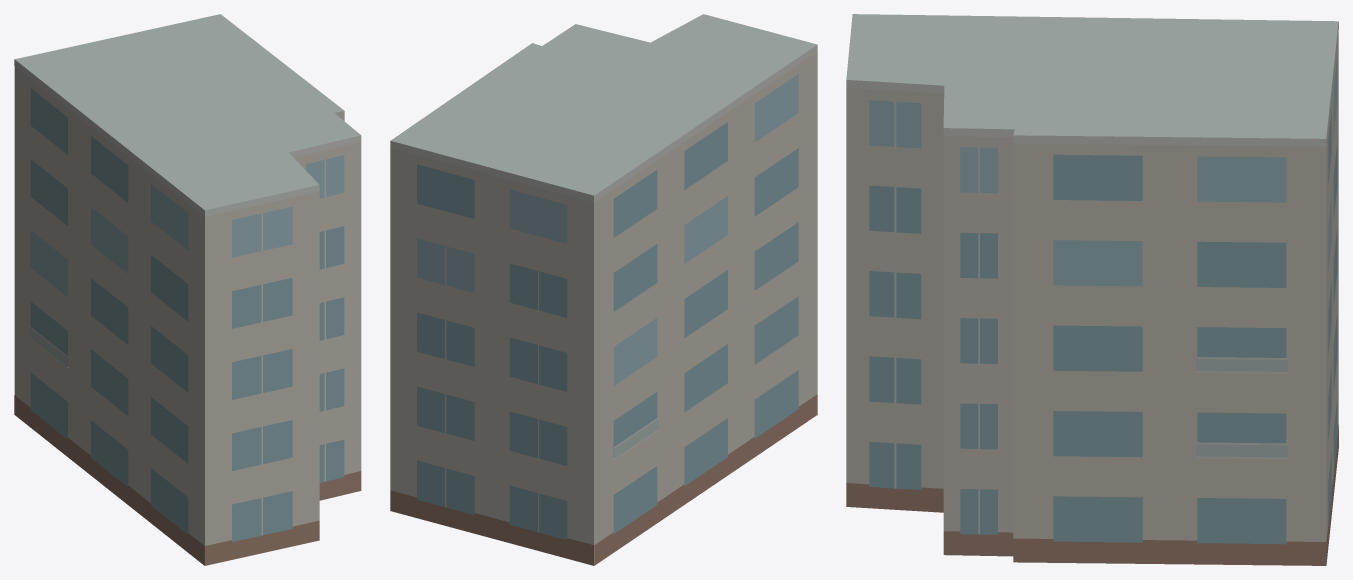
The model's file is survey-upis-32564476.glb.
3 renders of one model, left to right at view 1: azimuth 30°, elevation 25°; view 2: azimuth 150°, elevation 25°; view 3: azimuth 270°, elevation 25°, orthographic. The views are drawn at different scales.
Parts seen in each view (by area): view 1: survey-upis-32564476.tmp; view 2: survey-upis-32564476.tmp; view 3: survey-upis-32564476.tmp.
Part boxes in pixels (box(x1,y1,x2,y2)): survey-upis-32564476.tmp: box(14, 14, 361, 565); survey-upis-32564476.tmp: box(390, 14, 817, 565); survey-upis-32564476.tmp: box(846, 14, 1338, 565).
Bounding box in the file's own units: 8.32 × 13.25 × 13.86.
